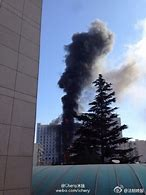smoke: (58, 18, 115, 144)
